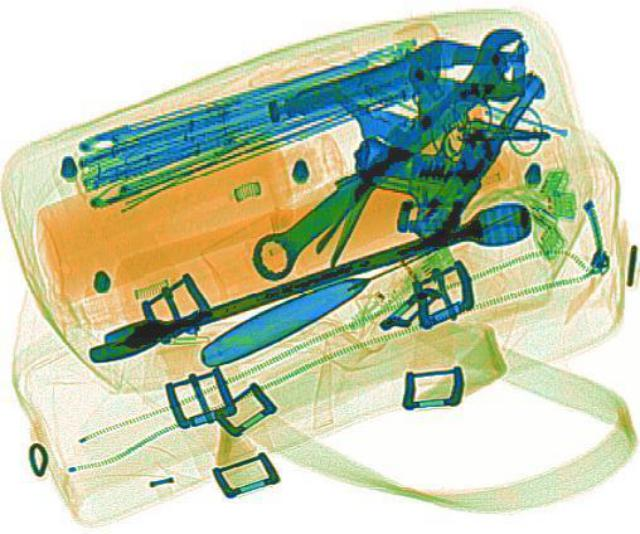Gun: (326, 36, 542, 239)
Knife: (188, 190, 534, 368)
Wrench: (225, 20, 561, 291)
